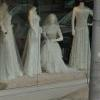Statue: (2, 1, 86, 80)
